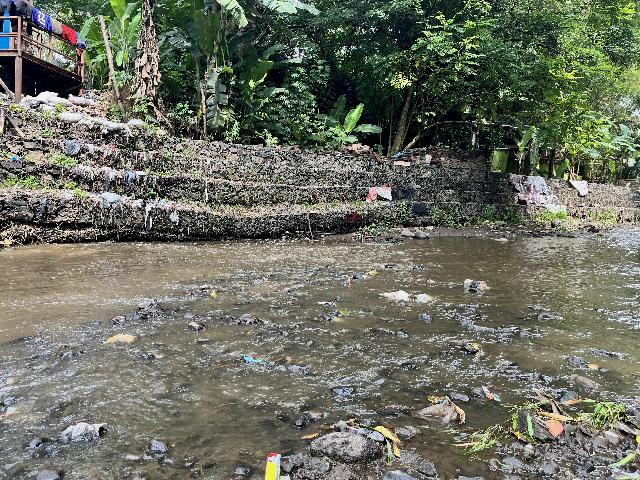Sampah Anorganik: (418, 394, 464, 430), (461, 275, 491, 296), (263, 452, 284, 480), (480, 384, 503, 405), (378, 289, 412, 303), (416, 293, 435, 304), (316, 300, 338, 308), (364, 269, 377, 278)
Sampah Organik: (545, 386, 640, 462), (352, 419, 407, 467), (444, 429, 531, 455), (104, 331, 136, 345), (0, 409, 20, 419), (471, 341, 484, 353), (301, 432, 319, 439), (329, 316, 344, 324), (245, 318, 262, 325), (107, 315, 125, 321), (313, 424, 333, 429), (588, 363, 597, 372), (339, 310, 348, 317), (261, 277, 270, 283), (210, 290, 218, 296), (347, 277, 350, 283)
